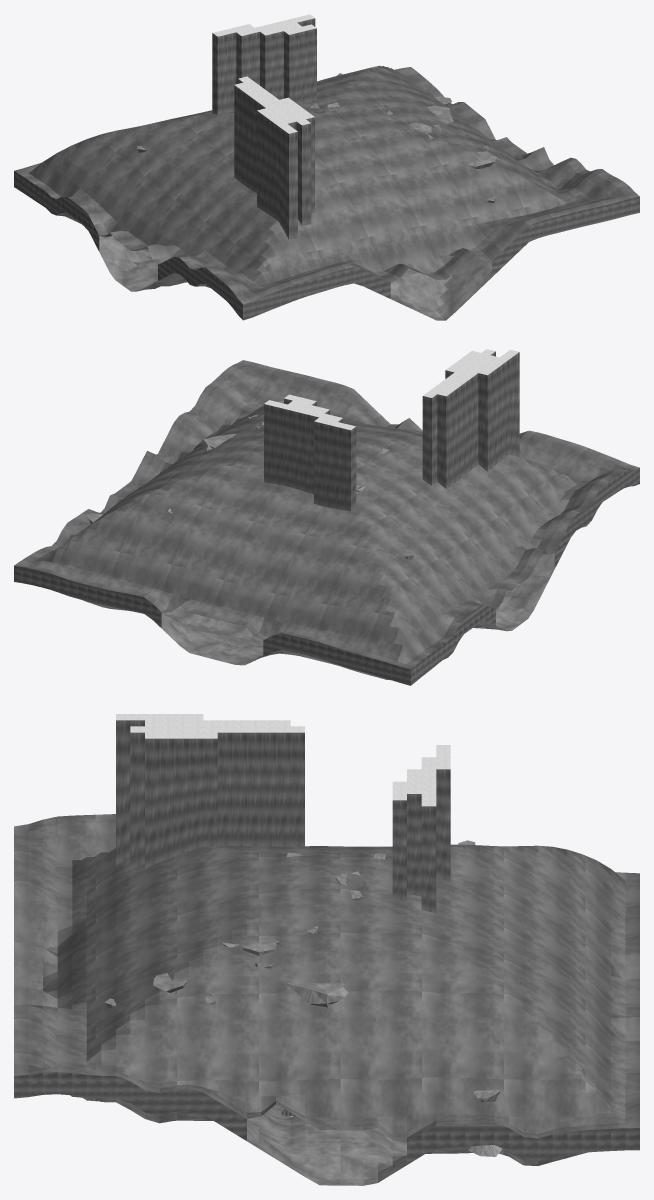
The picture shows the model from 3 angles, top to bottom: view 1: azimuth 30°, elevation 25°; view 2: azimuth 150°, elevation 25°; view 3: azimuth 270°, elevation 25°; orthographic projection. The views are drawn at different scales.
Parts seen in each view (by area): view 1: CavernVault, CavernShaft, CavernWalls, CavernFloor, CavernSkyCap, CavernColumns, CavernStalactites; view 2: CavernVault, CavernShaft, CavernWalls, CavernFloor, CavernSkyCap, CavernStalactites; view 3: CavernVault, CavernShaft, CavernWalls, CavernFloor, CavernSkyCap, CavernStalactites, CavernColumns.
Boxes of the visible parts, bbox=[...] form: CavernVault: bbox=[14, 65, 639, 303]; CavernShaft: bbox=[212, 18, 316, 239]; CavernWalls: bbox=[14, 171, 639, 320]; CavernFloor: bbox=[57, 213, 492, 320]; CavernSkyCap: bbox=[213, 14, 316, 133]; CavernColumns: bbox=[309, 97, 496, 168]; CavernStalactites: bbox=[137, 73, 495, 202]; CavernVault: bbox=[14, 360, 639, 669]; CavernShaft: bbox=[264, 351, 519, 511]; CavernWalls: bbox=[14, 468, 639, 685]; CavernFloor: bbox=[82, 553, 554, 680]; CavernSkyCap: bbox=[264, 349, 518, 430]; CavernStalactites: bbox=[168, 414, 413, 559]; CavernVault: bbox=[14, 814, 639, 1142]; CavernShaft: bbox=[116, 720, 450, 913]; CavernWalls: bbox=[14, 1072, 639, 1164]; CavernFloor: bbox=[70, 1095, 587, 1185]; CavernSkyCap: bbox=[116, 714, 450, 806]; CavernStalactites: bbox=[105, 840, 526, 1007]; CavernColumns: bbox=[153, 871, 501, 1156].
Size of the model in its own units: 92 by 48.01 by 92.
Materials: 6 (6 with a texture image).
